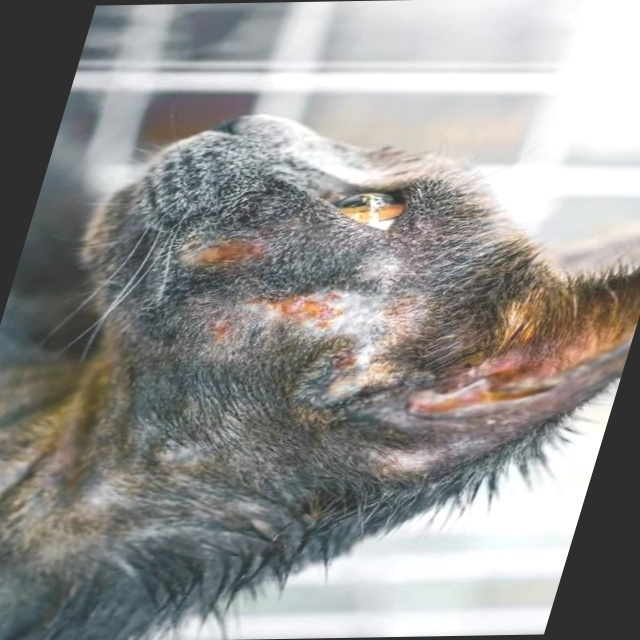ringworm: (248, 285, 392, 332), (314, 342, 385, 405), (199, 240, 270, 273), (207, 315, 244, 344)
